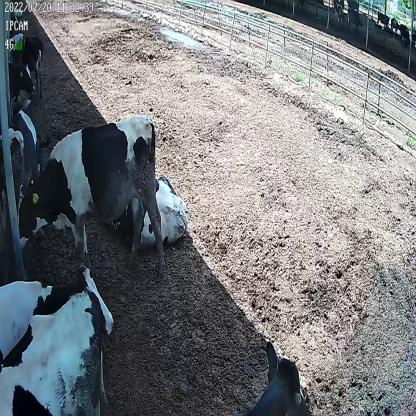cow: (14, 112, 165, 281)
